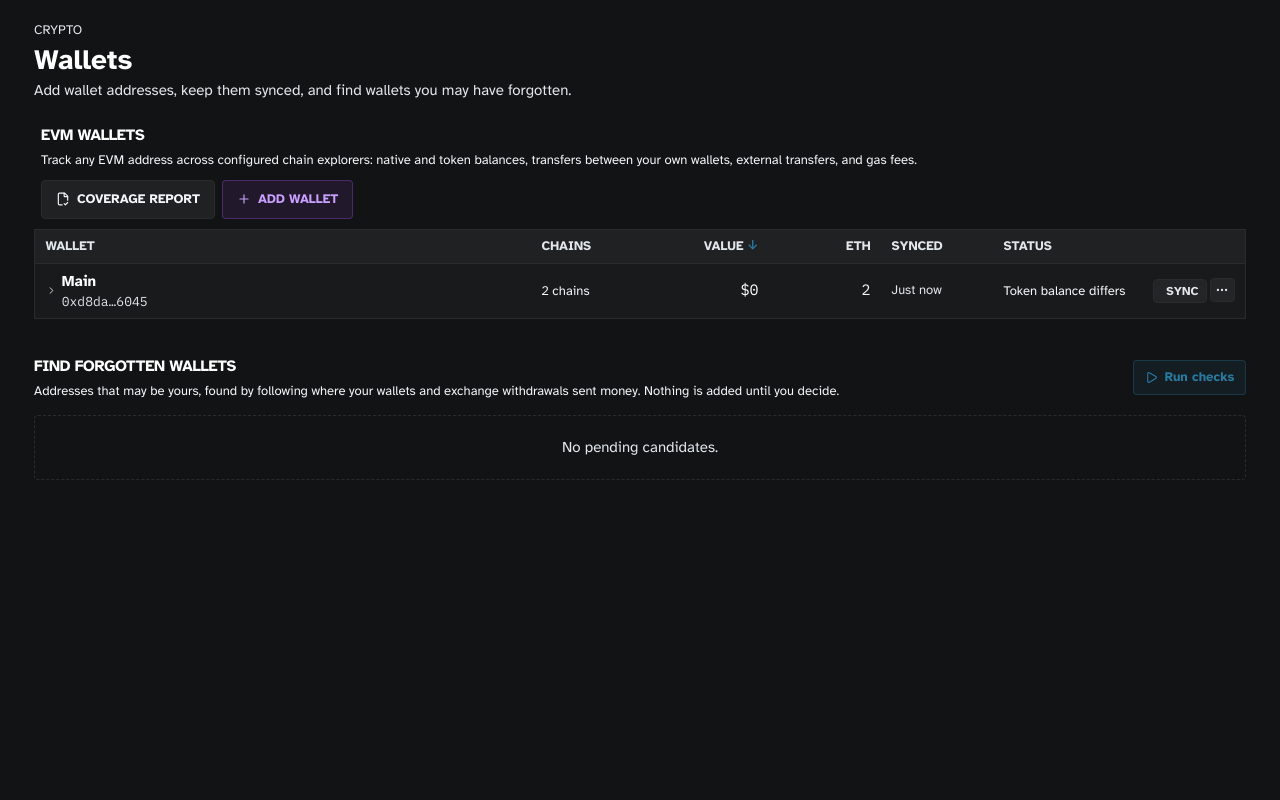
it: Crypto -> Wallets tab › does not badge Wallets for token drift alone
Check: the heading "EVM Wallets" is shown, box [41,125,144,145]
Click the text "Main".
click(79, 281)  # box [62,272,96,290]
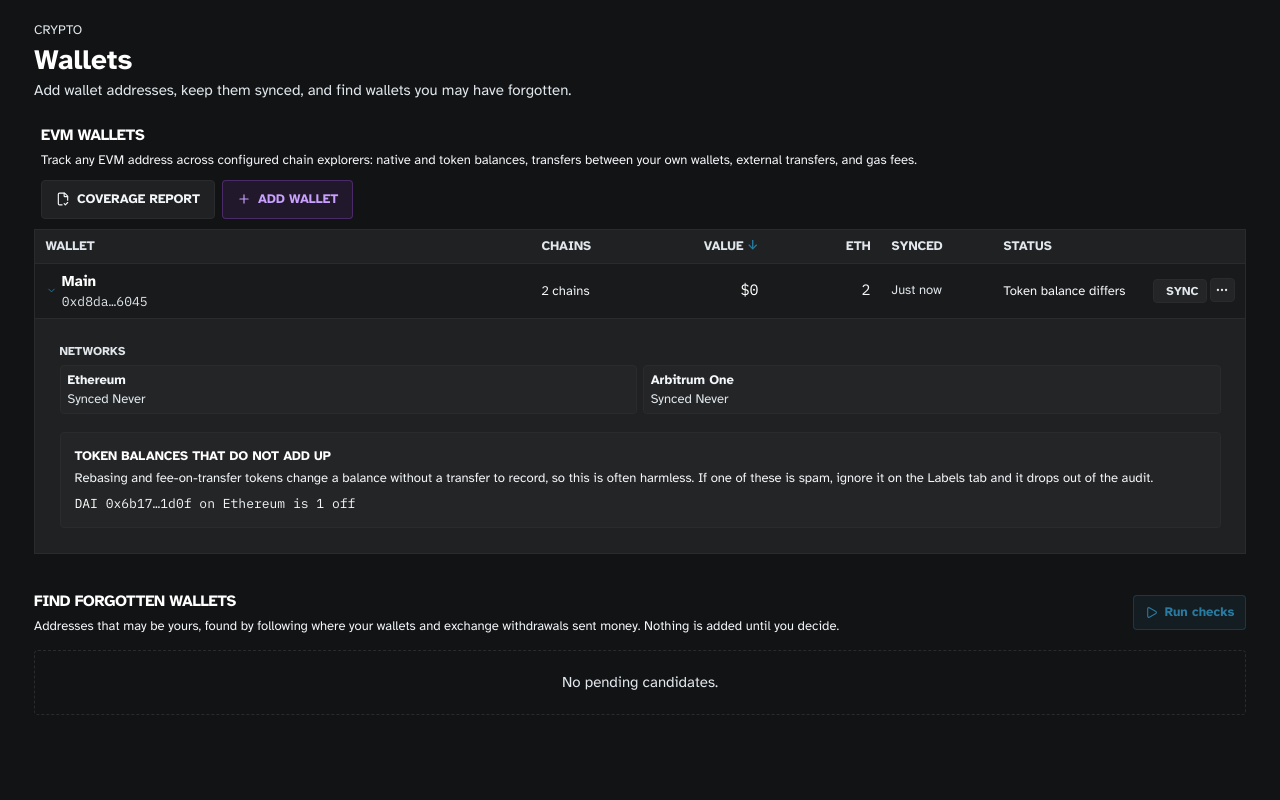
Check: the text "Token balances that do not add up" is shown, box [74,448,331,464]
